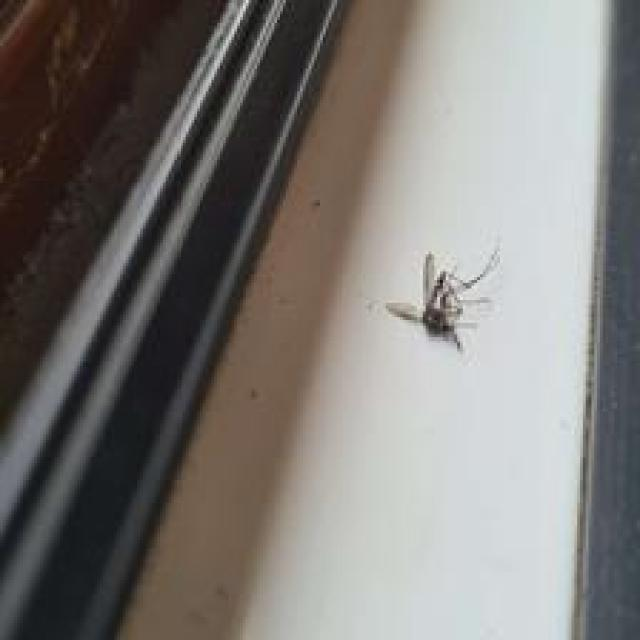Aedes albopictus: (382, 244, 502, 353)
